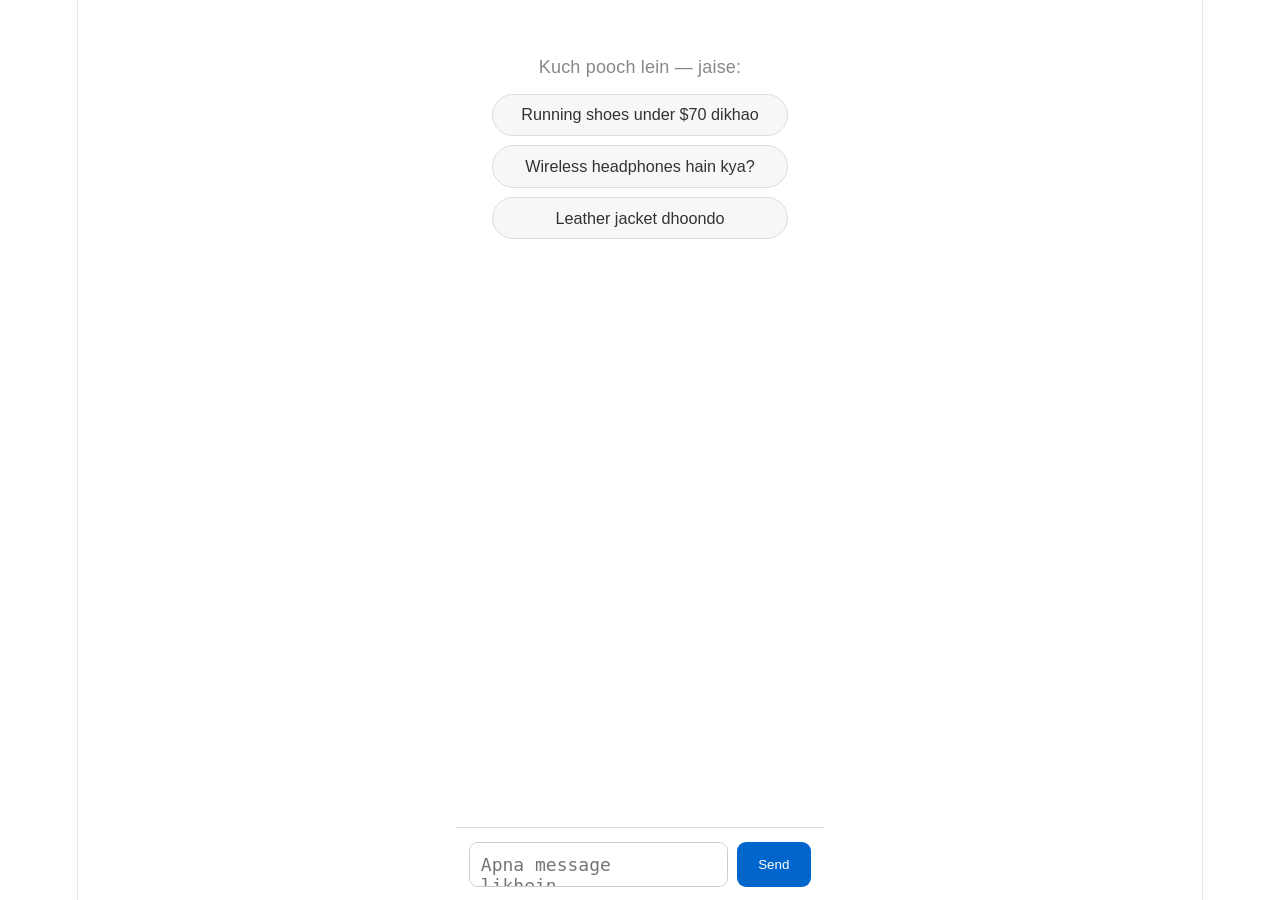
it: message rendering — user + pending + streaming › sending a message renders the user bubble
Type "Running shoes dikhao" into the text box at coordinates (598, 864), box [469,842,728,886]
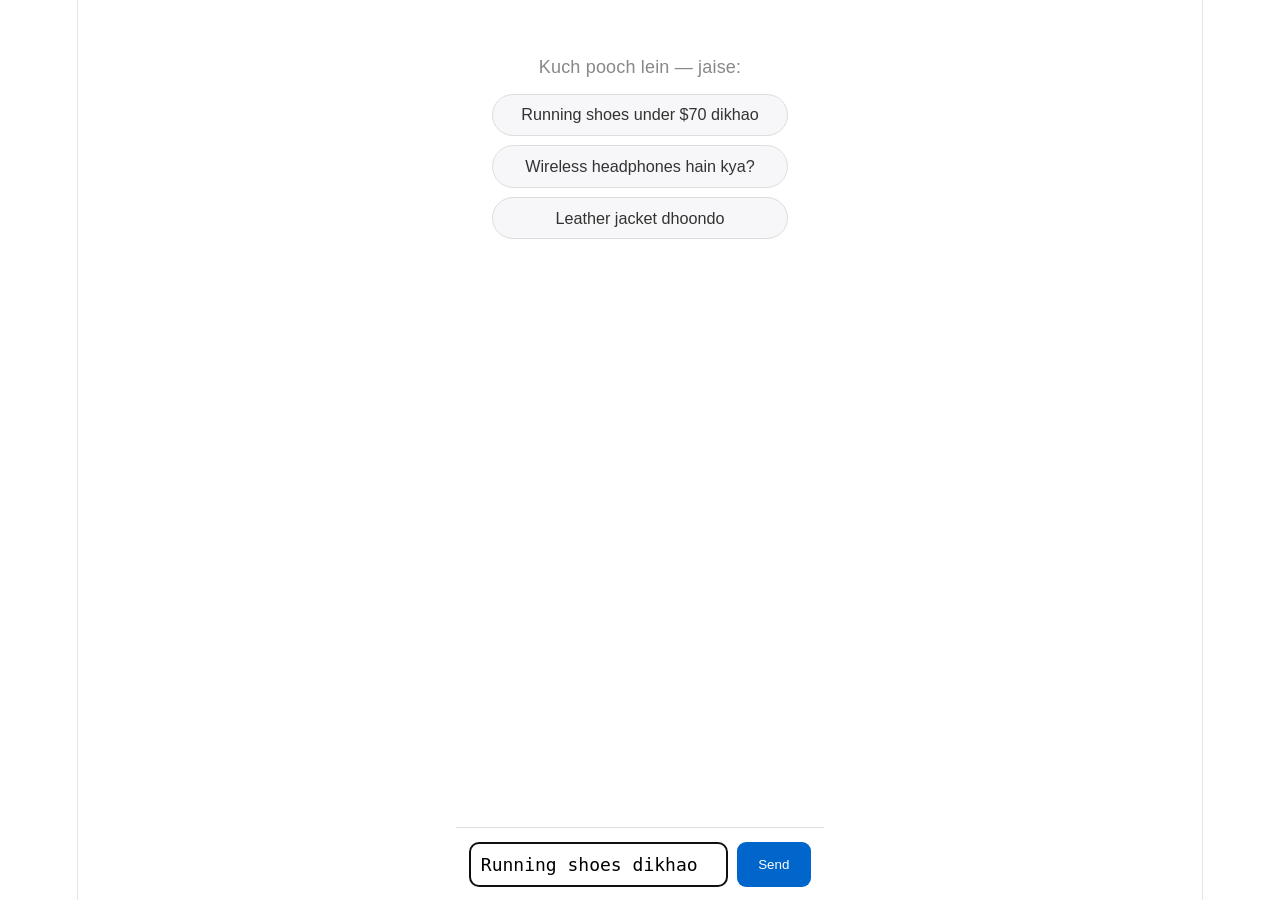
Click the button "Send" at coordinates (774, 864), box [737,842,811,886]
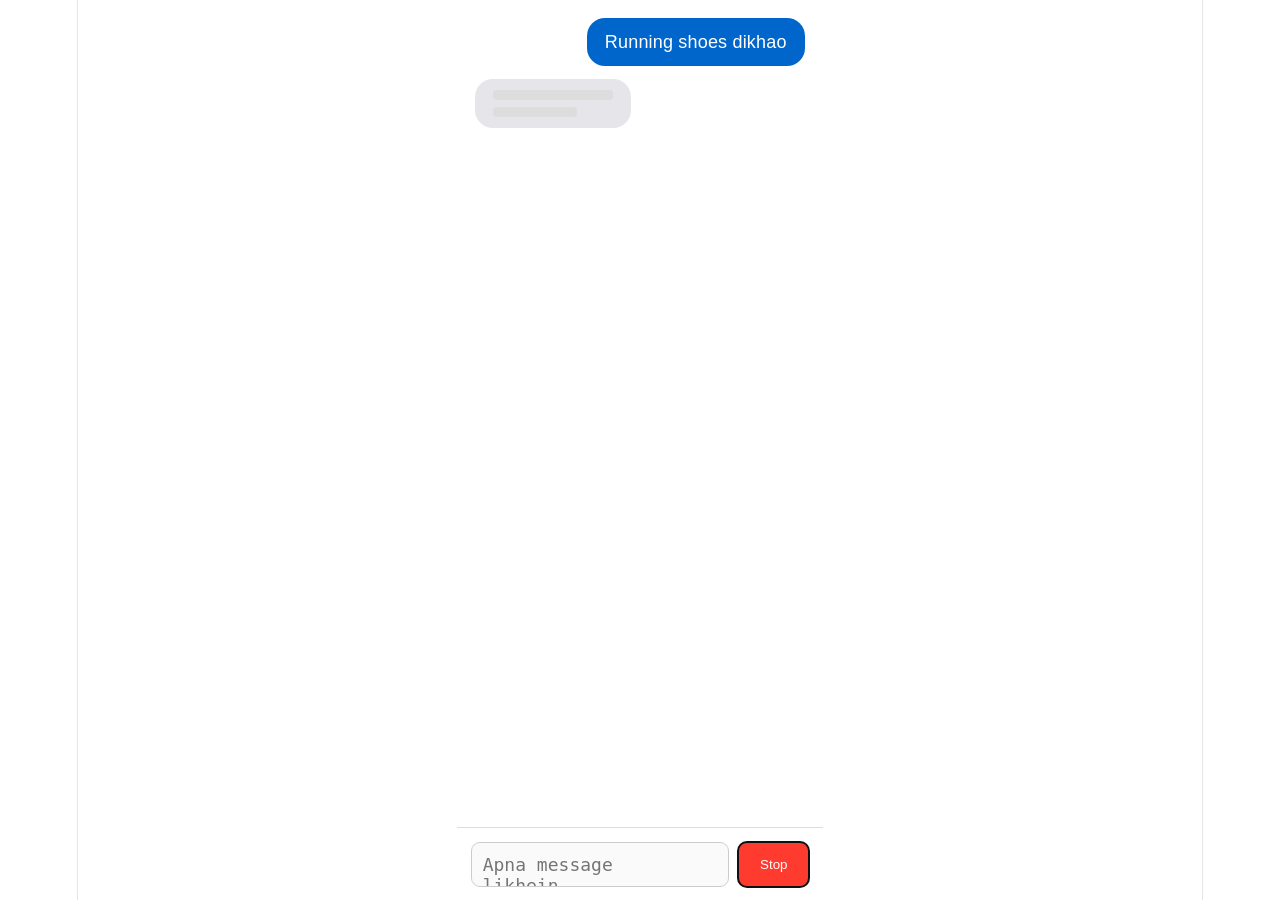
Result: the text "Running shoes dikhao" is shown at [587,18,805,66]
